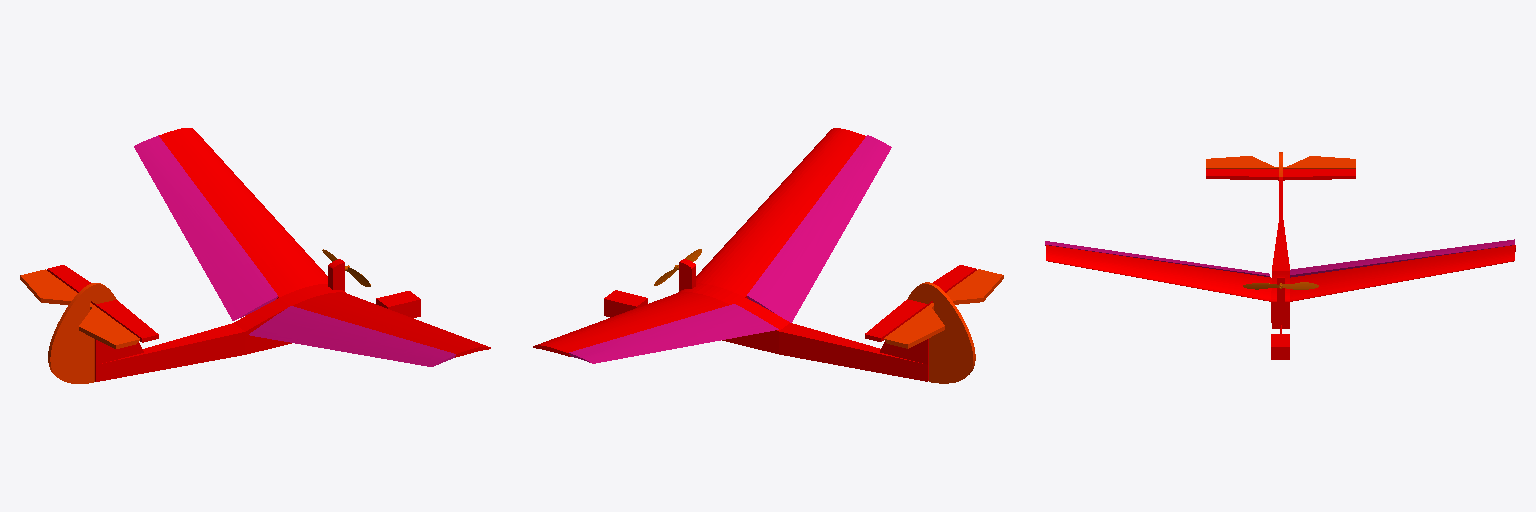
The robot description file, URDF, robot "ksenos":
<robot name="ksenos">

    <material name="red">
        <color rgba="1.0 0.0 0.0 1.0" />
    </material>

    <material name="cyan">
        <color rgba="0.87 0.08 0.52 1.0" />
    </material>


    <material name="orange">
        <color rgba="1.0 0.27 0.0 1.0" />
    </material>

    <link name="base_link">
        <visual>
            <origin xyz="0.03 0 0.07 " rpy="1.57 0 3.14 " />
            <geometry>
                <mesh filename="package://nokolat2024_model/meshes/body.stl" scale="0.001 0.001 0.001" />
            </geometry>
            <material name="red" />
        </visual>
        <collision>
            <geometry>
                <mesh filename="package://nokolat2024_model/meshes/body.stl" scale="0.001 0.001 0.001" />
            </geometry>
        </collision>
    </link>


    <link name="aileron_left">
        <visual>
            <origin xyz="0.14 -0.02 0.012 " rpy="0 0.21 1.64  " />
            <geometry>
                <mesh filename="package://nokolat2024_model/meshes/aileron_left.stl" scale="0.001 0.001 0.001" />
            </geometry>
            <material name="cyan" />
        </visual>
        <collision>
            <geometry>
                <mesh filename="package://nokolat2024_model/meshes/aileron_left.stl" scale="0.001 0.001 0.001" />
            </geometry>
        </collision>
    </link>

    <link name="aileron_right">
        <visual>
            <origin xyz="0.14 0.02 -0.015 " rpy="-0.345 1.35 1.31 " />
            <geometry>
                <mesh filename="package://nokolat2024_model/meshes/aileron_right.stl" scale="0.001 0.001 0.001" />
            </geometry>
            <material name="cyan" />
        </visual>
        <collision>
            <geometry>
                <mesh filename="package://nokolat2024_model/meshes/aileron_right.stl" scale="0.001 0.001 0.001" />
            </geometry>
        </collision>
    </link>

    <link name="rudder">
        <visual>
            <origin xyz="0.6 0 0.07  " rpy="0 0 1.57 " />
            <geometry>
                <mesh filename="package://nokolat2024_model/meshes/rudder.stl" scale="0.001 0.001 0.001" />
            </geometry>
            <material name="orange" />
        </visual>
        <collision>
            <geometry>
                <mesh filename="package://nokolat2024_model/meshes/rudder.stl" scale="0.001 0.001 0.001" />
            </geometry>
        </collision>
    </link>

    <link name="elevator">
        <visual>
            <origin xyz="0 0 0  " rpy="0 0 1.57 " />
            <geometry>
                <mesh filename="package://nokolat2024_model/meshes/elevator.stl" scale="0.001 0.001 0.001" />
            </geometry>
            <material name="orange" />
        </visual>
        <collision>
            <geometry>
                <mesh filename="package://nokolat2024_model/meshes/elevator.stl" scale="0.001 0.001 0.001" />
            </geometry>
        </collision>
    </link>

    <link name="propeller">
        <visual>
            <origin xyz="0 0 0  " rpy=" 1.57  0 1.57 " />
            <geometry>
                <mesh filename="package://nokolat2024_model/meshes/propeller.stl" scale="0.001 0.001 0.001" />
            </geometry>
        </visual>
        <collision>
            <geometry>
                <mesh filename="package://nokolat2024_model/meshes/propeller.stl" scale="0.001 0.001 0.001" />
            </geometry>
        </collision>
    </link>


    <joint name="joint_aileron_left" type="revolute">
        <origin xyz="-0.11 0.03 0.07" rpy="0.203 0 -0.08" />
        <axis xyz="0 1 0" />
        <limit lower="-0.5" upper="1" effort="0" velocity="0" />
        <parent link="base_link" />
        <child link="aileron_left" />
    </joint>


    <joint name="joint_aileron_right" type="revolute">
        <origin xyz="-0.11 -0.03 0.07" rpy="1.367 0 0.08" />
        <axis xyz="0 0 1" />
        <limit lower="-1" upper="0.5" effort="0" velocity="0" />
        <parent link="base_link" />
        <child link="aileron_right" />
    </joint>

    <joint name="joint_rudder" type="revolute">
        <origin xyz="-0.57 0 0" rpy="0 0 0" />
        <axis xyz="0 0 1" />
        <limit lower="-0.785" upper="0.785" effort="0" velocity="0" />
        <parent link="base_link" />
        <child link="rudder" />
    </joint>

    <joint name="joint_elevator" type="revolute">
        <origin xyz="-0.575 0 0.18" rpy="0 0 0" />
        <axis xyz="0 1 0" />
        <limit lower="-0.75" upper="0.75" effort="0" velocity="0" />
        <parent link="base_link" />
        <child link="elevator" />
    </joint>

    <joint name="joint_propeller" type="continuous">
        <origin xyz="0.03 0 0.12" rpy="0 0 0" />
        <axis xyz="1 0 0" />
        <limit lower="-3" upper="3" effort="0" velocity="0" />
        <parent link="base_link" />
        <child link="propeller" />
    </joint>


</robot>

--- Facts derived from the render (not from the file) ---
Views: 3 orthographic renders of the robot side by side, from view 1: azimuth 30°, elevation 25°; view 2: azimuth 150°, elevation 25°; view 3: azimuth 270°, elevation 25°.
Model ksenos with 6 links and 5 joints (4 revolute, 1 continuous), rooted at base_link, posed every joint at zero.
Links seen in each view (by area): view 1: base_link, aileron_left, aileron_right, rudder, elevator; view 2: base_link, aileron_right, aileron_left, rudder, elevator; view 3: base_link, aileron_left, elevator, aileron_right.
Link boxes in pixels (bbox=[...]): base_link: bbox=[47, 128, 490, 381]; aileron_left: bbox=[134, 135, 277, 320]; aileron_right: bbox=[249, 306, 455, 366]; rudder: bbox=[48, 283, 116, 383]; elevator: bbox=[20, 269, 139, 348]; base_link: bbox=[533, 128, 976, 381]; aileron_right: bbox=[747, 135, 891, 322]; aileron_left: bbox=[569, 304, 778, 363]; rudder: bbox=[908, 282, 975, 383]; elevator: bbox=[884, 269, 1003, 348]; base_link: bbox=[1046, 169, 1515, 359]; aileron_left: bbox=[1290, 239, 1514, 277]; elevator: bbox=[1206, 156, 1355, 168]; aileron_right: bbox=[1045, 241, 1269, 276].
Bounding box of the posed robot: 0.8855 × 1.25 × 0.2463 m (x, y, z).
Meshes: 6 distinct files referenced, 6 mesh visuals loaded (6 binary STL).
